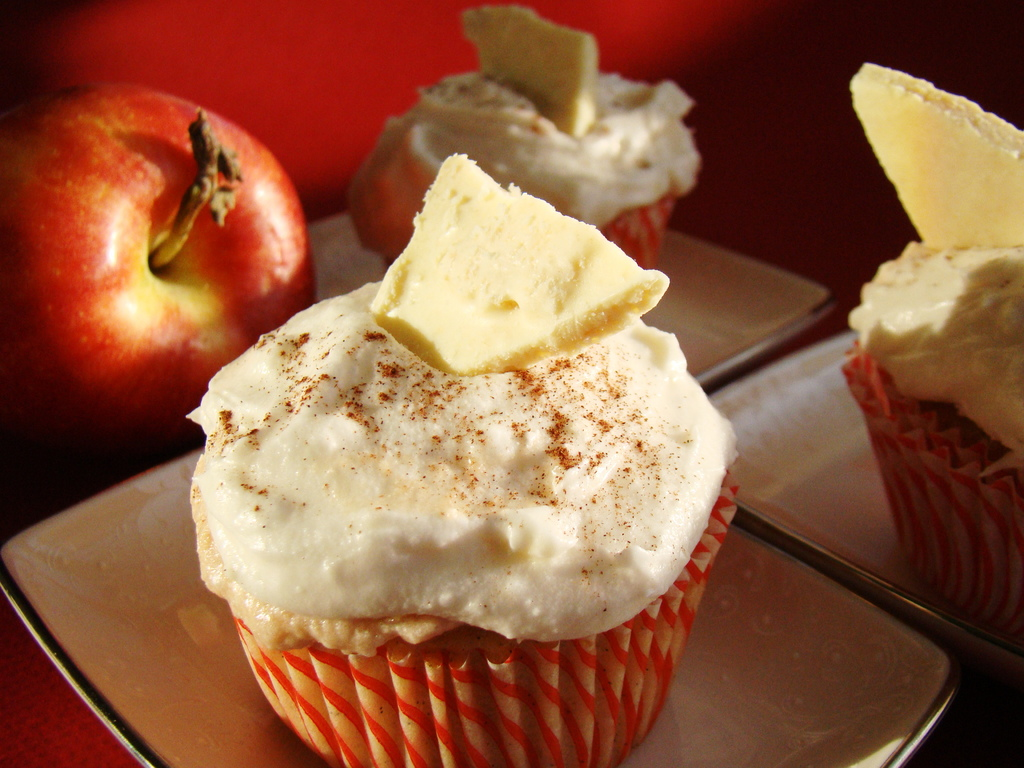Apple: (7, 79, 346, 437)
